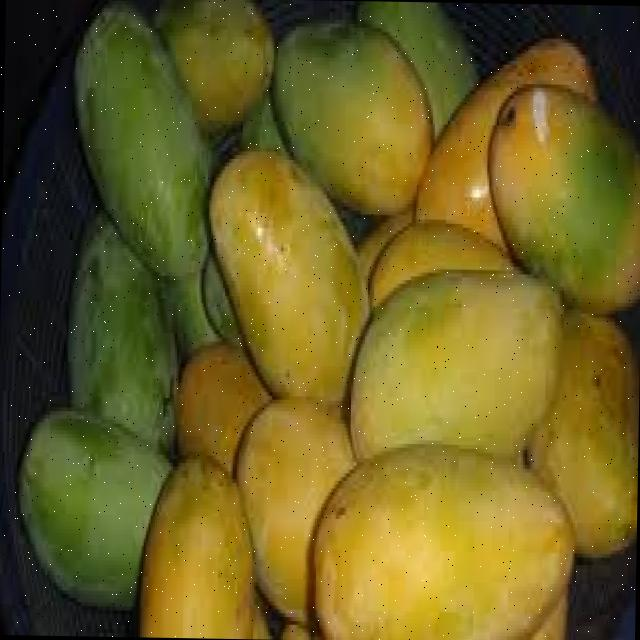mango: (206, 147, 367, 404)
